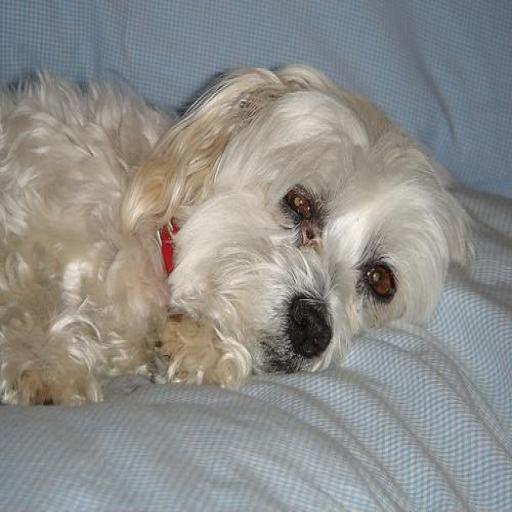dog_face: (148, 59, 473, 378)
